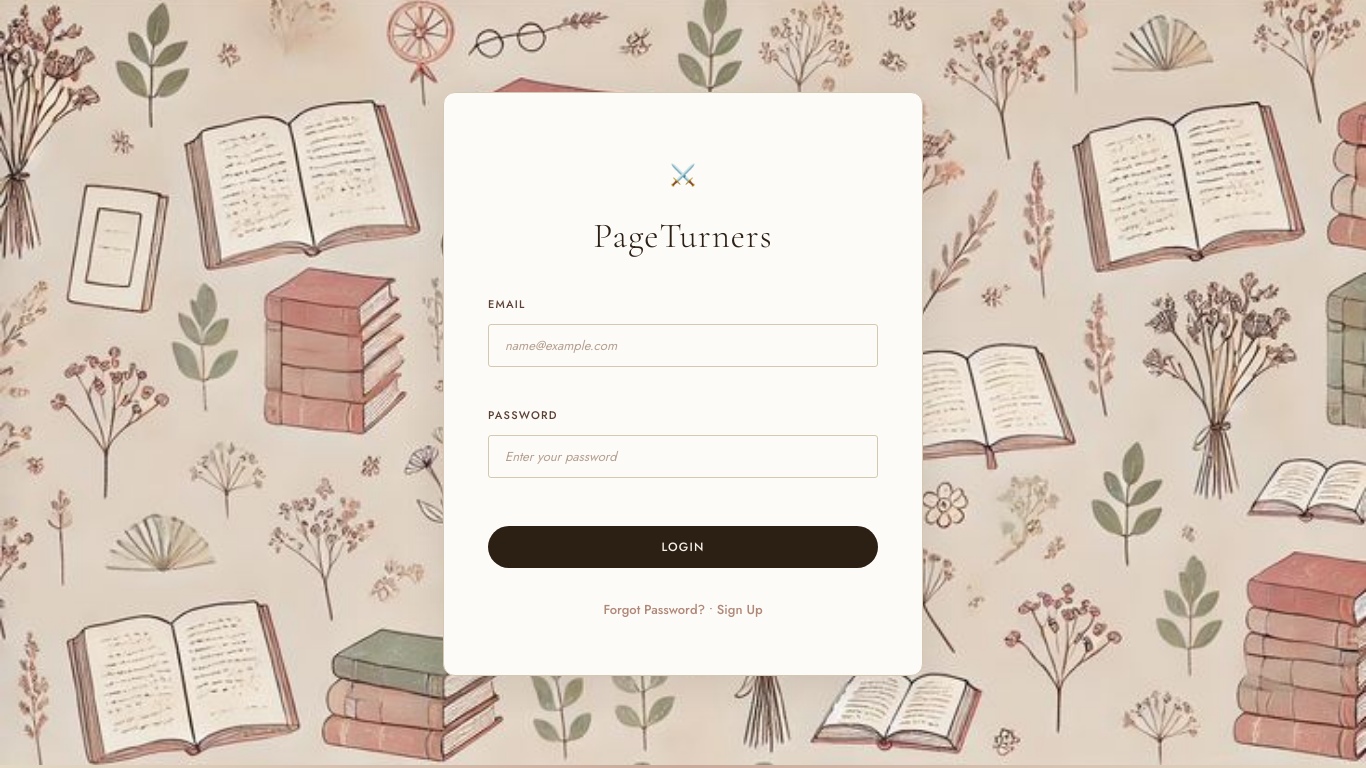
Login Component - Frontend Tests › Form Rendering › Form Validation › should show error when email is invalid
This screenshot has width=1366, height=768.
In the field with test id "email-input": (683, 345) [488,324,878,367], type "test@invalid"
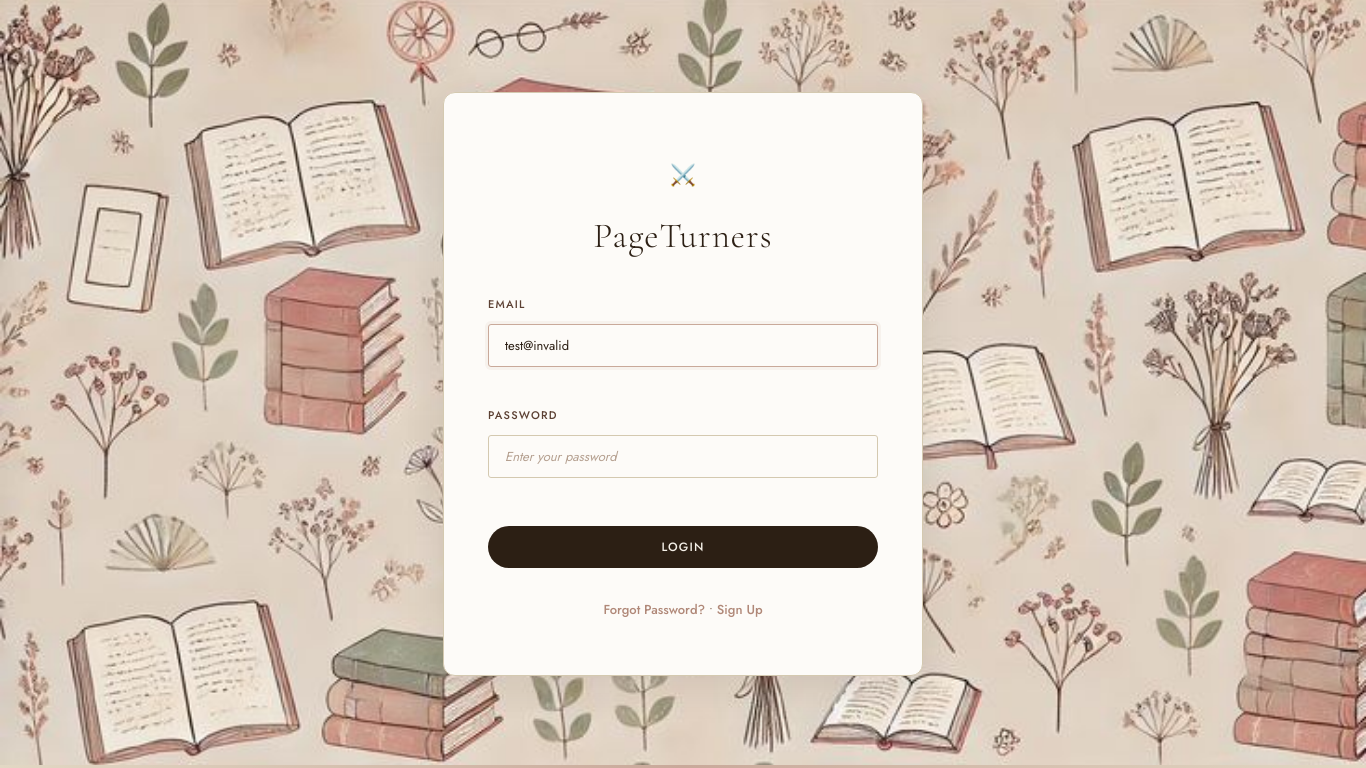
In the password field with test id "password-input": (683, 456) [488,435,878,478], type "Password123"
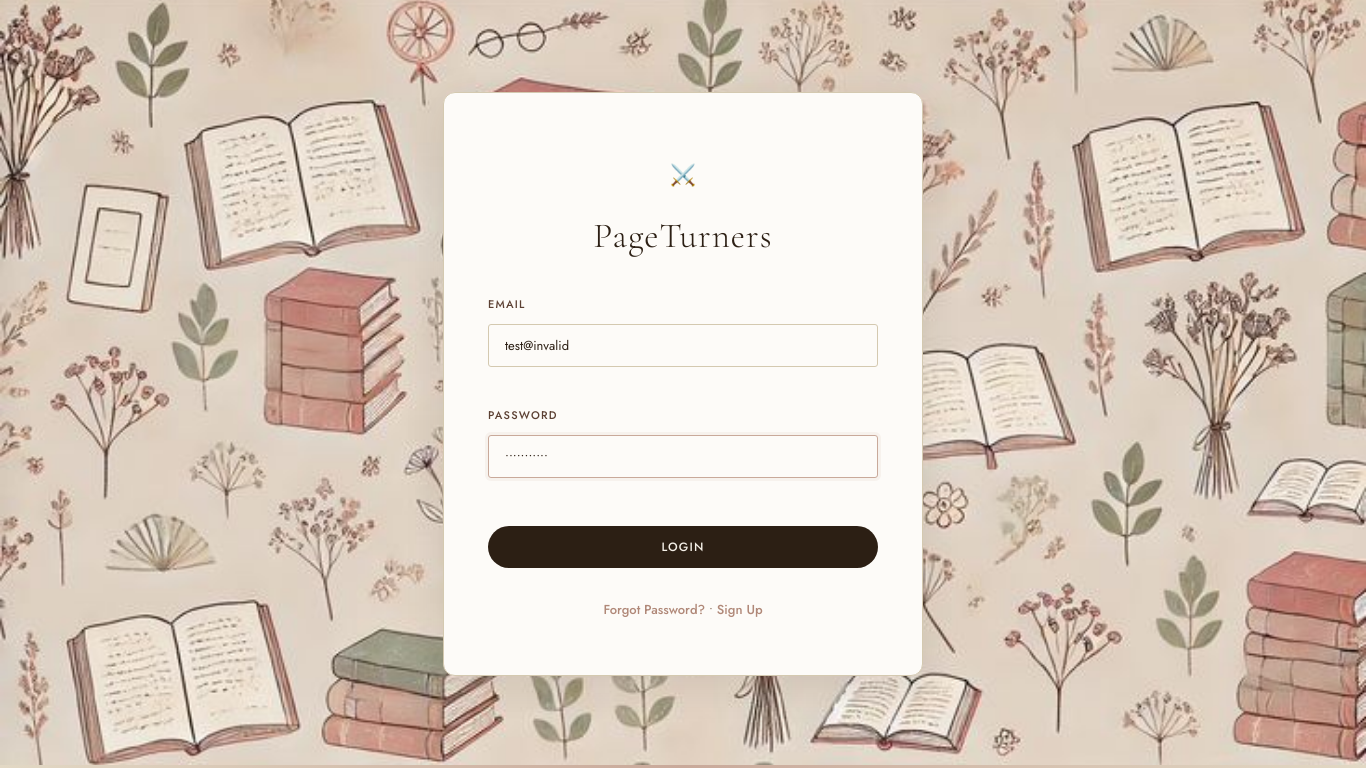
Click the button with test id "login-submit-btn": (683, 547) [488,526,878,568]
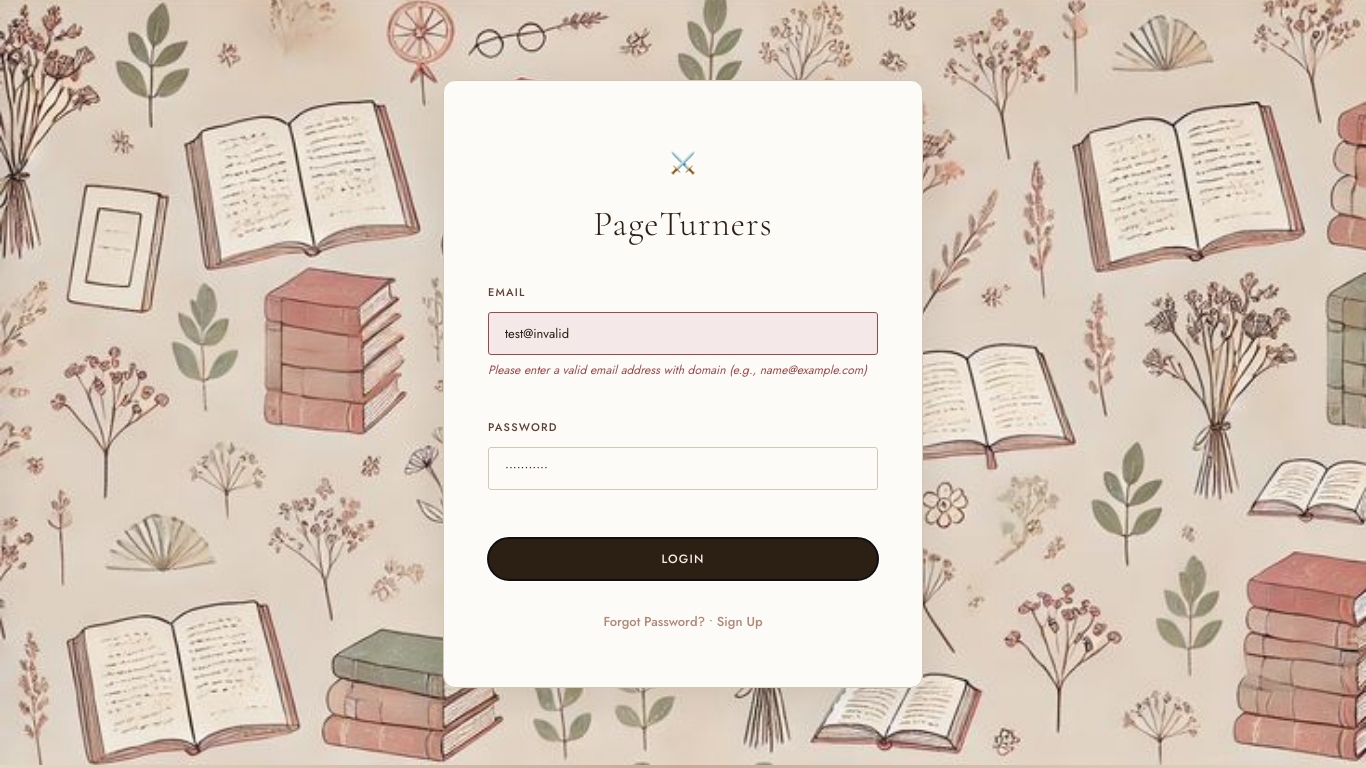
Expected: the text "valid email address with domain" is shown, [488,361,867,379]
